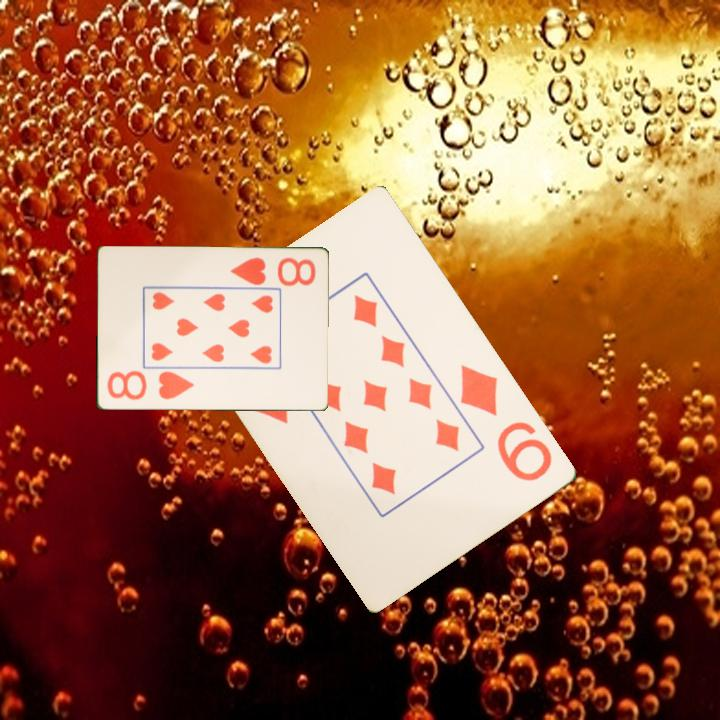8h: (103, 368, 197, 403), (227, 254, 318, 289)
9d: (457, 361, 556, 485)
